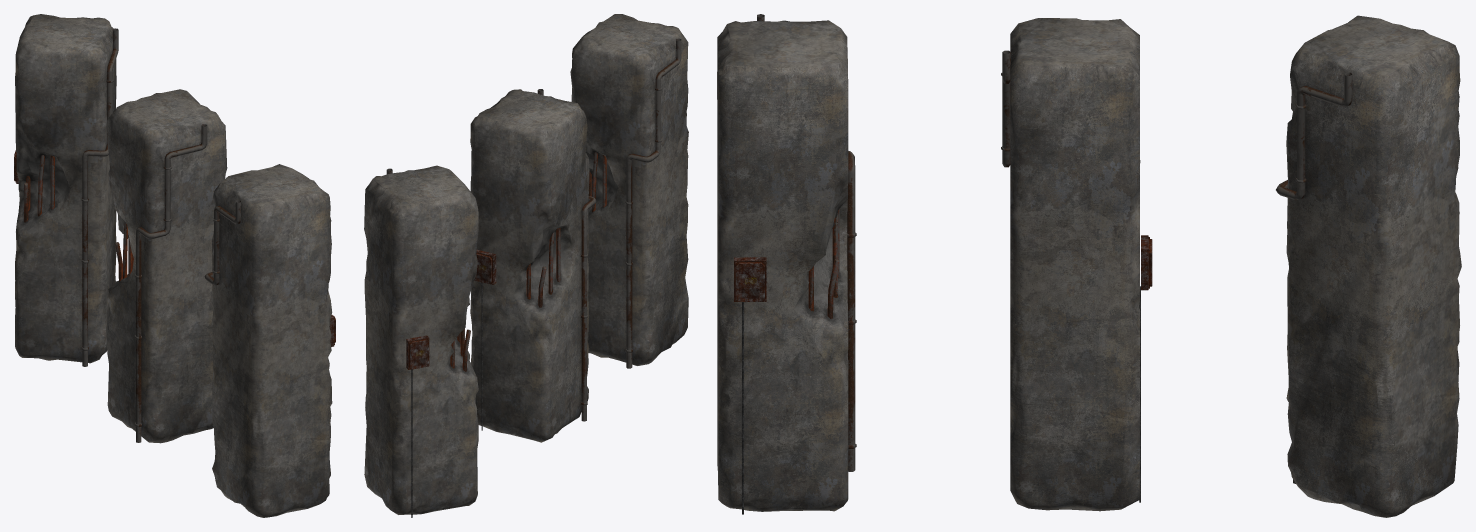
The model's file is damaged_column.glb.
3 views of the same model, side by side, from view 1: azimuth 30°, elevation 25°; view 2: azimuth 150°, elevation 25°; view 3: azimuth 270°, elevation 25° (orthographic). The views are drawn at different scales.
Parts seen in each view (by area): view 1: column.002_13, column_0, column.001_8, pipes_1, pipes.001_9, pipes.002_14; view 2: column_0, column.001_8, column.002_13, pipes.002_14, pipes_1, pipes.001_9, fuse.001_12, fuse_4; view 3: column.001_8, column_0, column.002_13, pipes.002_14, pipes.001_9, fuse.002_17, pipes_1.
Part boxes in pixels (box(x1,y1,x2,y2)): column.002_13: box(211, 164, 332, 517); column_0: box(107, 89, 227, 443); column.001_8: box(15, 14, 116, 363); pipes_1: box(115, 124, 207, 442); pipes.001_9: box(24, 28, 118, 366); pipes.002_14: box(204, 200, 240, 285); column_0: box(470, 89, 589, 442); column.001_8: box(364, 165, 478, 514); column.002_13: box(570, 14, 688, 365); pipes.002_14: box(588, 38, 681, 368); pipes_1: box(481, 89, 596, 430); pipes.001_9: box(386, 168, 470, 517); fuse.001_12: box(406, 335, 429, 369); fuse_4: box(474, 249, 496, 284); column.001_8: box(1286, 15, 1461, 517); column_0: box(1010, 18, 1140, 511); column.002_13: box(717, 20, 848, 511); pipes.002_14: box(742, 14, 855, 514); pipes.001_9: box(1276, 72, 1352, 483); fuse.002_17: box(734, 257, 766, 301); pipes_1: box(1002, 50, 1140, 502).
Bounding box in the file's own units: 2.67 × 7.56 × 11.48.
Materials: 3 (3 with a texture image).
